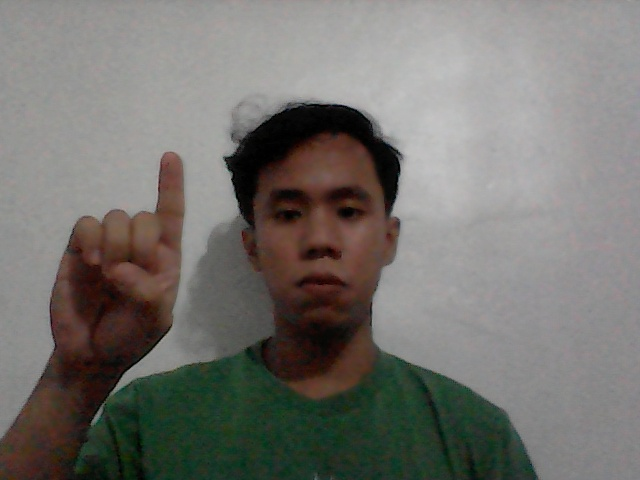D: (25, 127, 223, 408)
